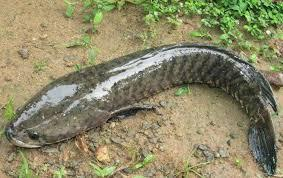Mudfish: (3, 42, 278, 175)
